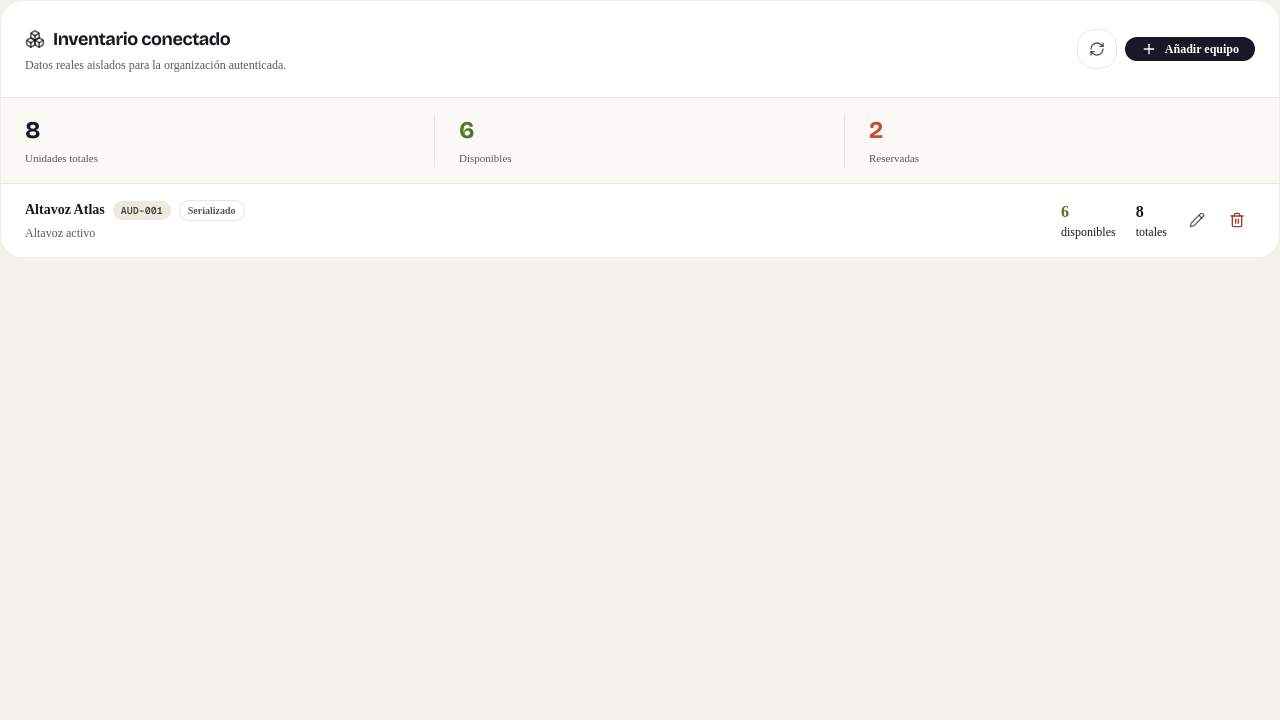
InventoryManager › creates an equipment item from the accessible form
The image size is (1280, 720).
Expected: the text "Altavoz Atlas" is shown, [25,200,105,220]
Click the button "Añadir equipo" at (1190, 49), box [1125,37,1255,61]
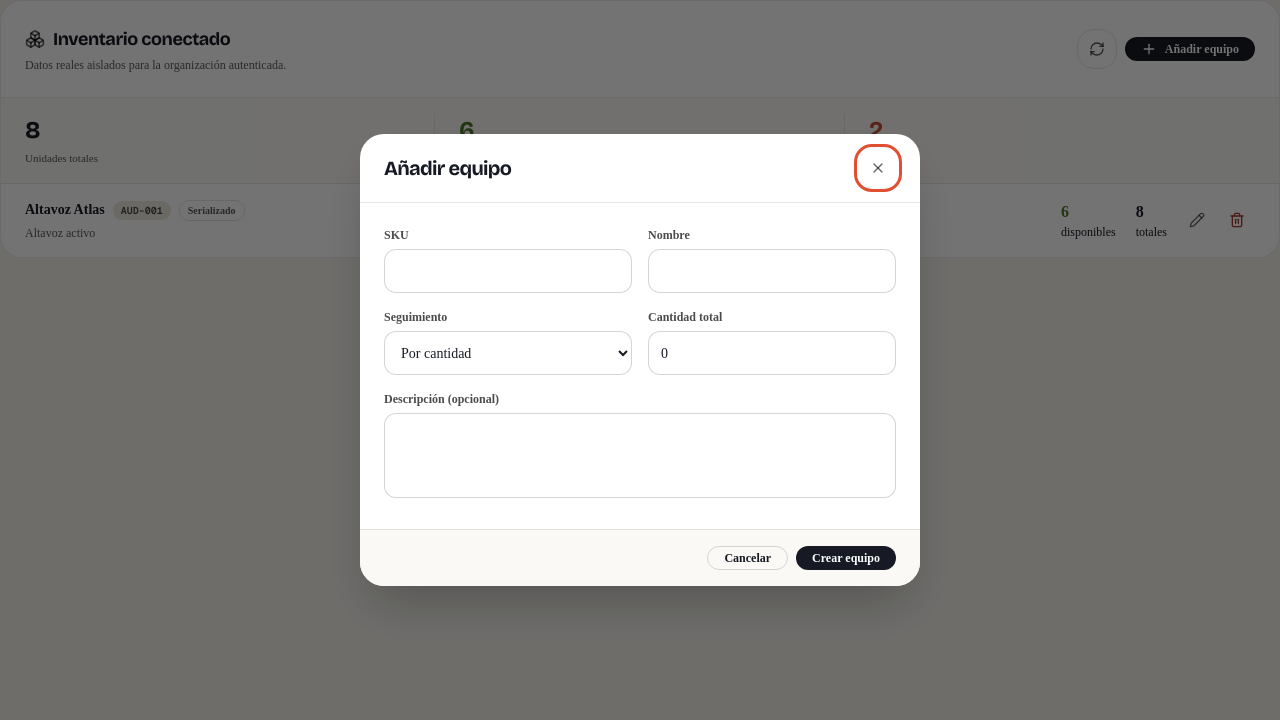
Type "LGT-002" into the field labelled "SKU" at (508, 271), box [384,249,632,293]
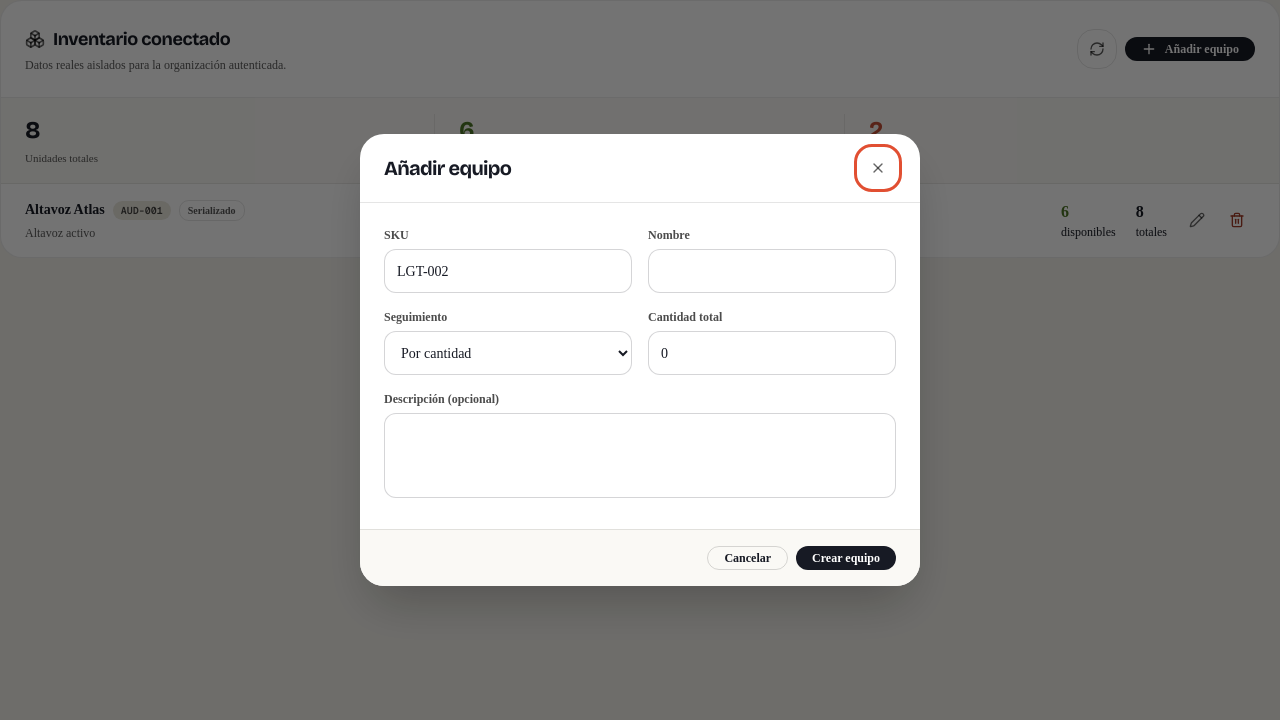
Type "Barra Luma" into the field labelled "Nombre" at (772, 271), box [648,249,896,293]
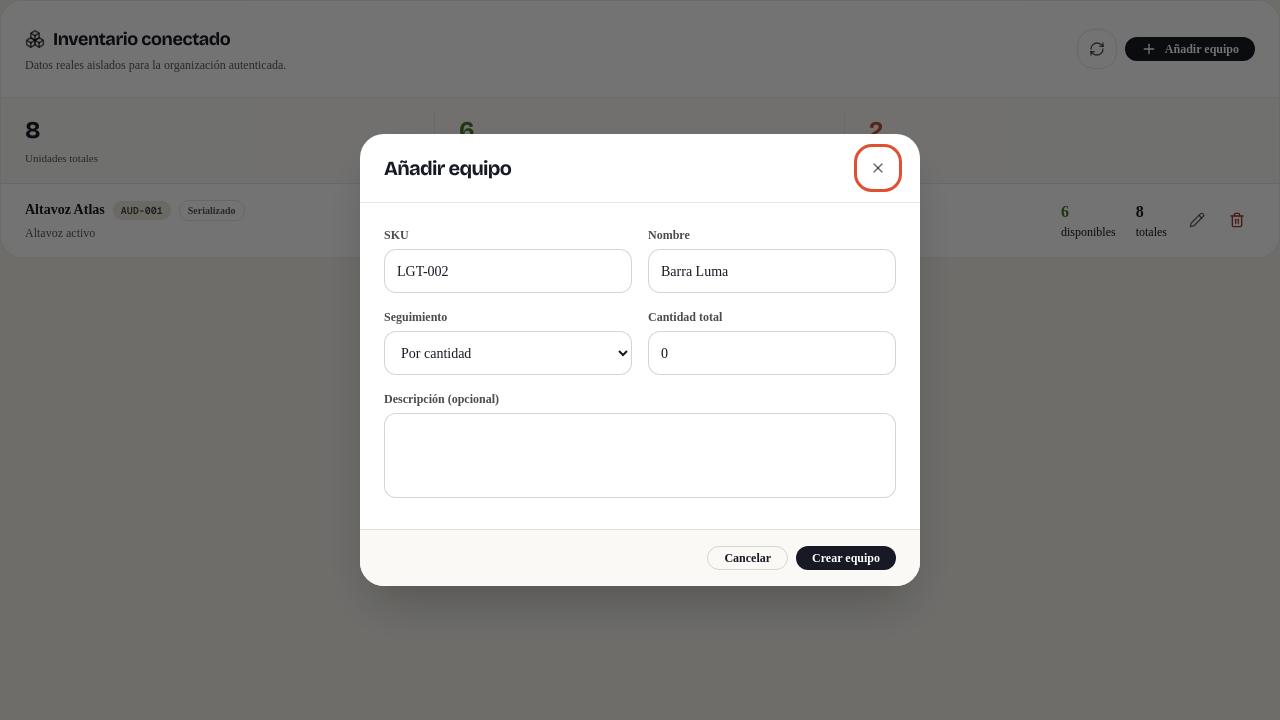
Replace the text in the number field labelled "Cantidad total" with "8" at (772, 353), box [648,331,896,375]
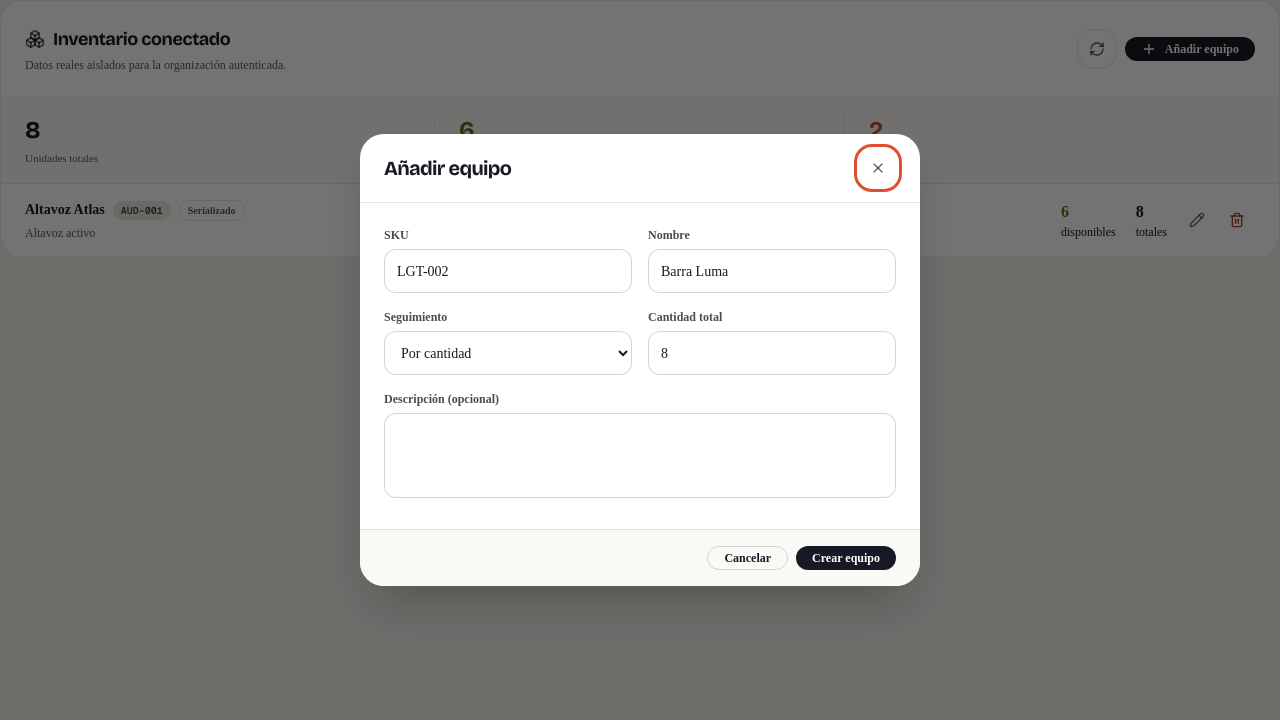
Click the button "Crear equipo" at (846, 558), box [796,546,896,570]
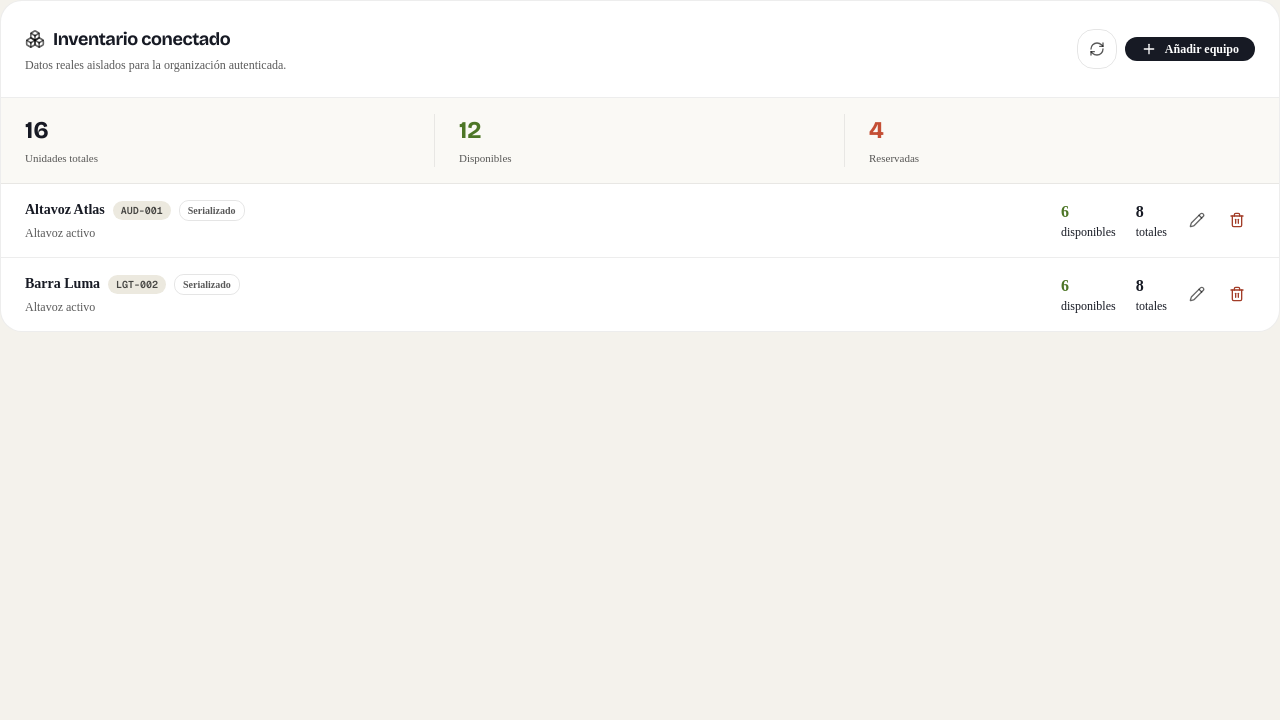
Result: the text "Barra Luma" is shown at [25,274,100,294]
